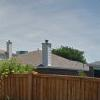Chimney: (40, 36, 55, 75)
